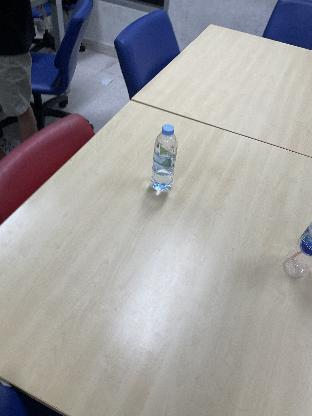Plastic Bottle: (150, 124, 178, 196), (284, 212, 312, 278)
